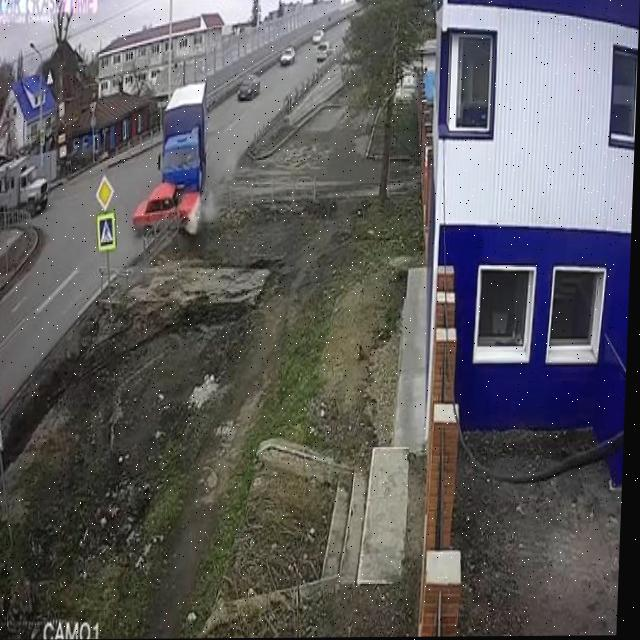multiple_accident: (93, 43, 242, 273)
normal: (0, 142, 70, 235), (215, 58, 285, 110)
